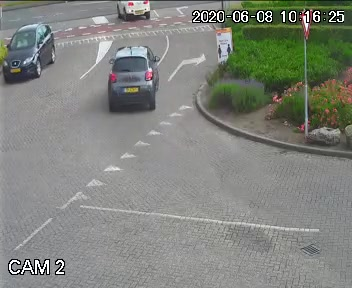car: (97, 37, 170, 119), (0, 15, 65, 90), (108, 0, 156, 27)
